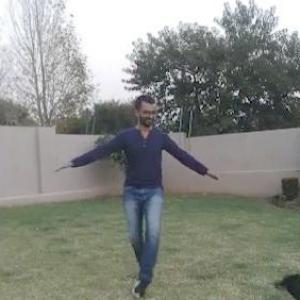land: (1, 70, 222, 299)
